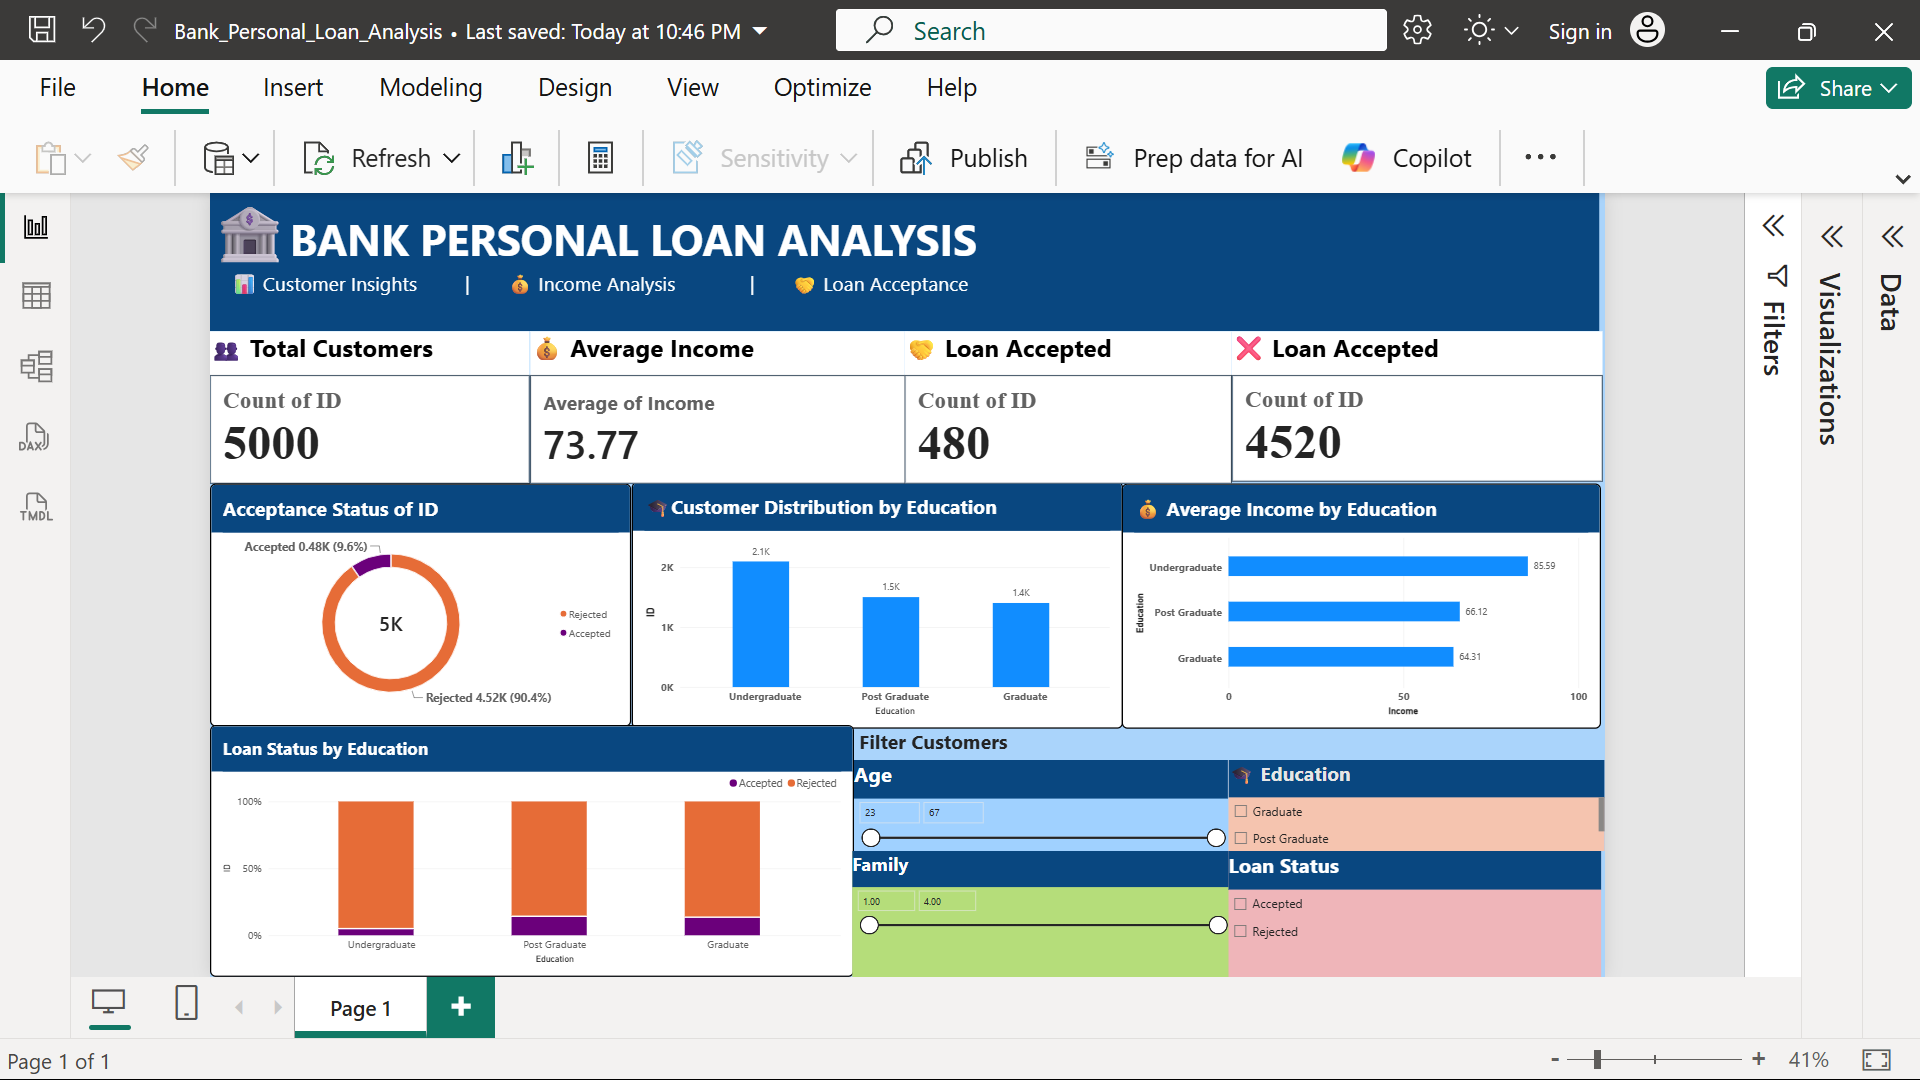

The page's visual inventory and layout, read from the dashboard file:
{"tool":"powerbi","page":{"name":"Page 2","canvas":[1920,1080],"ordinal":0},"visuals":[{"type":"textbox","box":[0,0,1913.3,190],"z":0},{"type":"cardVisual","title":"👥 Total Customers","fields":{"Data":["CountNonNull(bank dataset.ID)"]},"box":[0,190,440,210],"z":1000},{"type":"donutChart","title":"Acceptance Status of ID","fields":{"Category":["bank dataset.Personal_Loan"],"Y":["CountNonNull(bank dataset.ID)"]},"box":[0,400,580,335],"z":2000},{"type":"clusteredColumnChart","title":"🎓Customer Distribution by Education","fields":{"Category":["bank dataset.Education"],"Y":["CountNonNull(bank dataset.ID)"]},"box":[580,396.7,676.7,340],"z":3000},{"type":"clusteredBarChart","title":"💰 Average Income by Education","fields":{"Category":["bank dataset.Education"],"Y":["Avg(bank dataset.Income)"]},"box":[1255,400,660,337.5],"z":4000},{"type":"hundredPercentStackedColumnChart","title":"Loan Status by Education","fields":{"Category":["bank dataset.Education"],"Series":["bank dataset.Personal_Loan"],"Y":["CountNonNull(bank dataset.ID)"]},"box":[0,733.3,886.7,346.7],"z":5000},{"type":"slicer","title":"Age","fields":{"Values":["bank dataset.Age"]},"box":[887.5,780,515,130],"z":6000},{"type":"slicer","title":"🎓 Education","fields":{"Values":["bank dataset.Education"]},"box":[1402.5,780,517.5,125],"z":7000},{"type":"slicer","title":"Family","fields":{"Values":["bank dataset.Family"]},"box":[883.3,906.7,520,175],"z":8000},{"type":"slicer","title":"Loan Status","fields":{"Values":["bank dataset.Personal_Loan"]},"box":[1402.6,905.3,513.2,173.7],"z":9000},{"type":"cardVisual","title":"💰 Average Income","fields":{"Data":["Avg(bank dataset.Income)"]},"box":[440,190,520,210],"z":10000},{"type":"cardVisual","title":" 🤝 Loan Accepted","fields":{"Data":["CountNonNull(bank dataset.ID)"]},"box":[956.7,190,450,210],"z":11000},{"type":"cardVisual","title":"❌  Loan Accepted","fields":{"Data":["CountNonNull(bank dataset.ID)"]},"box":[1406.7,190,510,206.7],"z":12000},{"type":"textbox","box":[887.5,737.5,1030,42.5],"z":13000}]}

Visuals, with their boxes on the page's 1920x1080 design canvas (x1, y1, x2, y2). These are canvas units, not pixel positions in the 1920x1080 screenshot, which may show the page scaled, cropped or inside an application window:
textbox: 0 0 1913 190
"👥 Total Customers" cardVisual: 0 190 440 400
"Acceptance Status of ID" donutChart: 0 400 580 735
"🎓Customer Distribution by Education" clusteredColumnChart: 580 397 1257 737
"💰 Average Income by Education" clusteredBarChart: 1255 400 1915 738
"Loan Status by Education" hundredPercentStackedColumnChart: 0 733 887 1080
"Age" slicer: 888 780 1402 910
"🎓 Education" slicer: 1402 780 1920 905
"Family" slicer: 883 907 1403 1082
"Loan Status" slicer: 1403 905 1916 1079
"💰 Average Income" cardVisual: 440 190 960 400
" 🤝 Loan Accepted" cardVisual: 957 190 1407 400
"❌  Loan Accepted" cardVisual: 1407 190 1917 397
textbox: 888 738 1918 780
